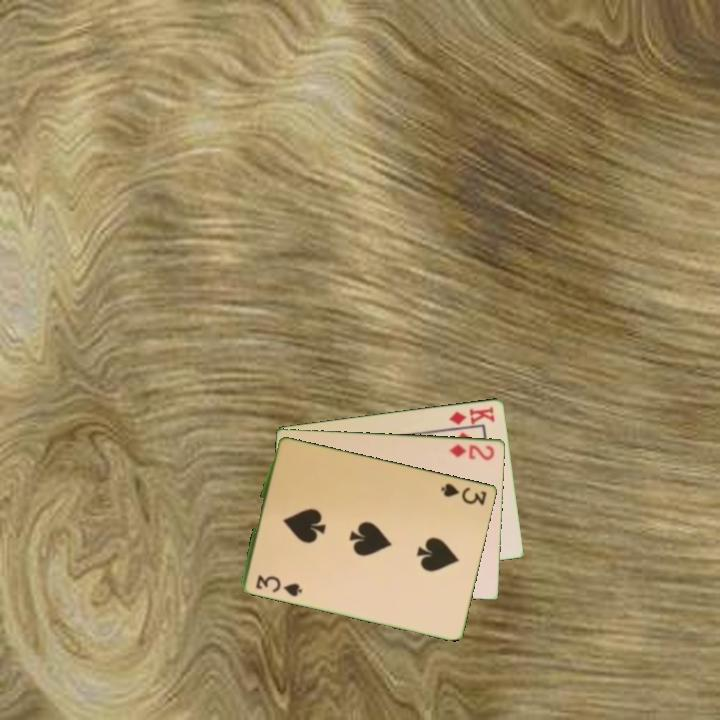2d: (446, 441, 497, 463)
3s: (438, 479, 490, 508), (253, 571, 303, 599)
Kd: (446, 403, 498, 427)
